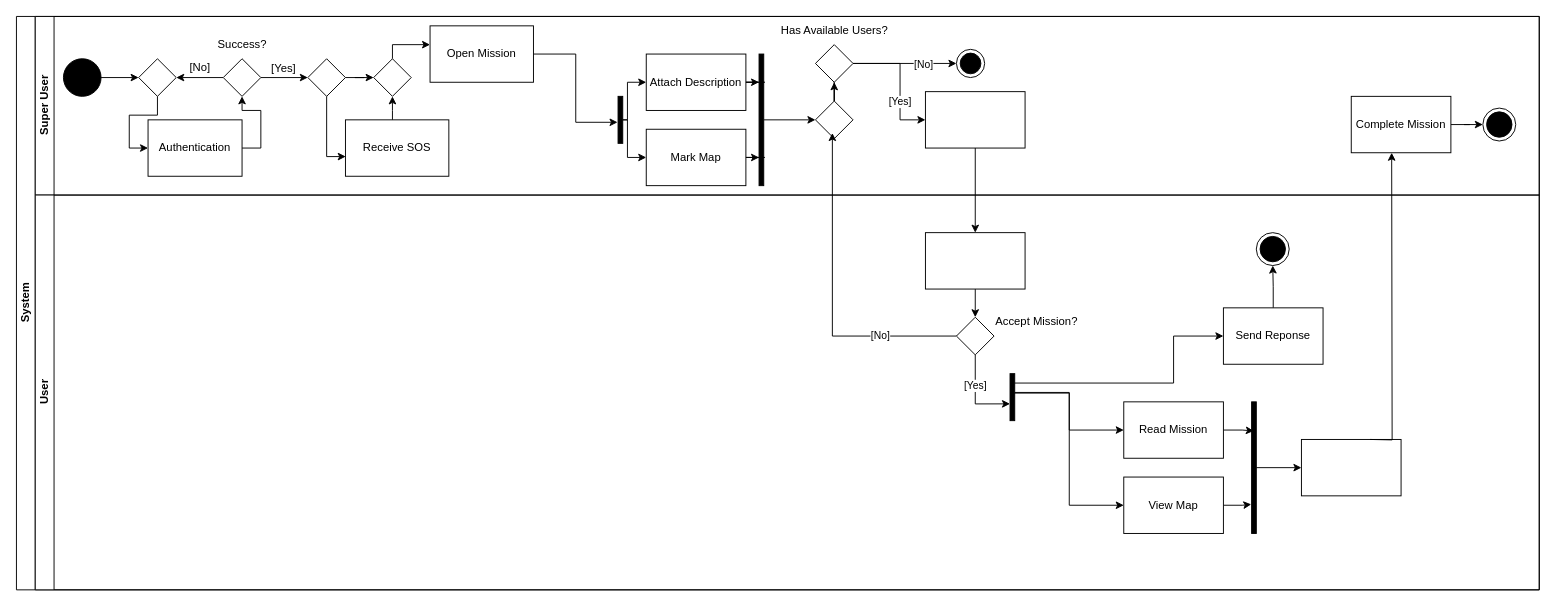
This 1556x606 diagram has some shape labels left out. Each missing label, with the box of its shape:
Assign Mission: (924, 91, 1025, 148)
Commit Mission: (1300, 439, 1401, 496)
Recieve Mission: (924, 232, 1025, 289)
